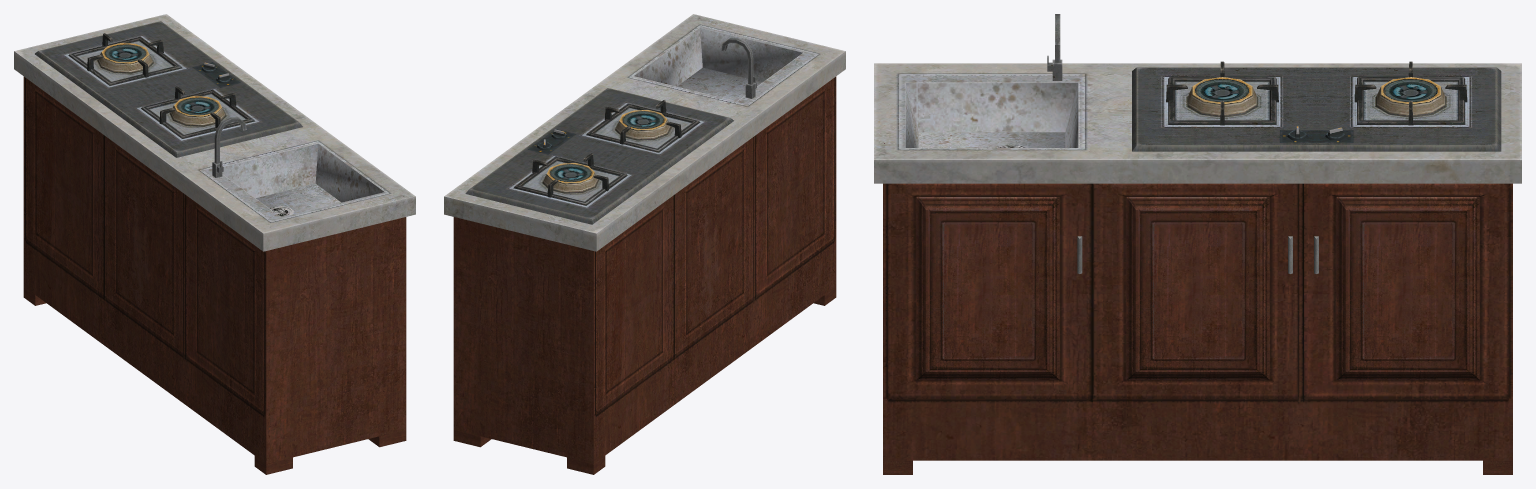
File: Building_Kitchencabinet03.glb
3 views of the same model, side by side, from view 1: azimuth 30°, elevation 25°; view 2: azimuth 150°, elevation 25°; view 3: azimuth 270°, elevation 25° (orthographic). The views are drawn at different scales.
Visible parts, largest first — view 1: xiutz_kitchencabinet_03; view 2: xiutz_kitchencabinet_03; view 3: xiutz_kitchencabinet_03.
Part boxes in pixels (x1,y1,x2,y2): xiutz_kitchencabinet_03: (14,14,415,474); xiutz_kitchencabinet_03: (444,14,845,474); xiutz_kitchencabinet_03: (874,14,1521,474).
Bounding box in the file's own units: 0.7618 × 1.43 × 2.16.
1 material, 1 textured.
